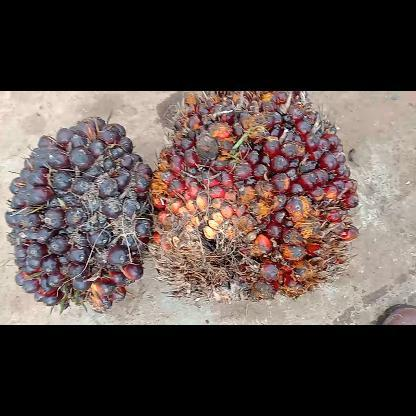TBS masak: (150, 90, 358, 302)
TBS mentah: (5, 116, 158, 312)
